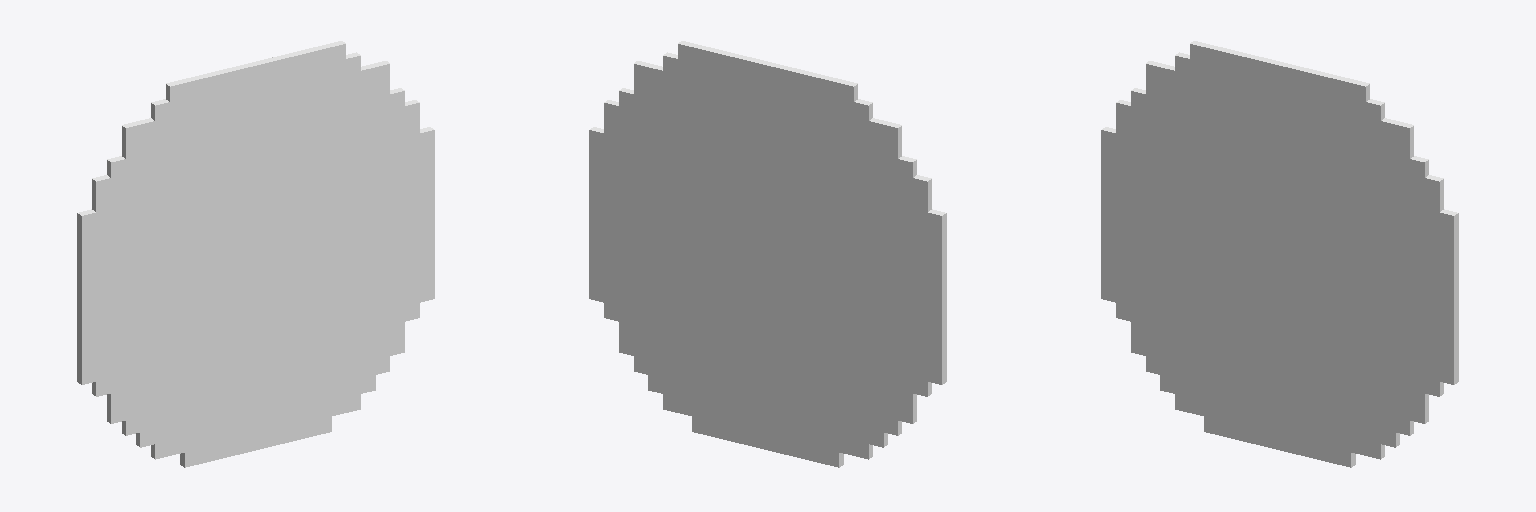
Rendered from stop.obj.
3 renders of one model, left to right at view 1: azimuth 30°, elevation 25°; view 2: azimuth 150°, elevation 25°; view 3: azimuth 330°, elevation 25°, orthographic.
Parts seen in each view (by area): view 1: object 1; view 2: object 1; view 3: object 1.
Boxes of the visible parts, x1=… form: object 1: x1=77, y1=41, x2=434, y2=467; object 1: x1=589, y1=41, x2=946, y2=467; object 1: x1=1101, y1=41, x2=1458, y2=467.
Bounding box in the file's own units: 4.8 × 5 × 0.1.